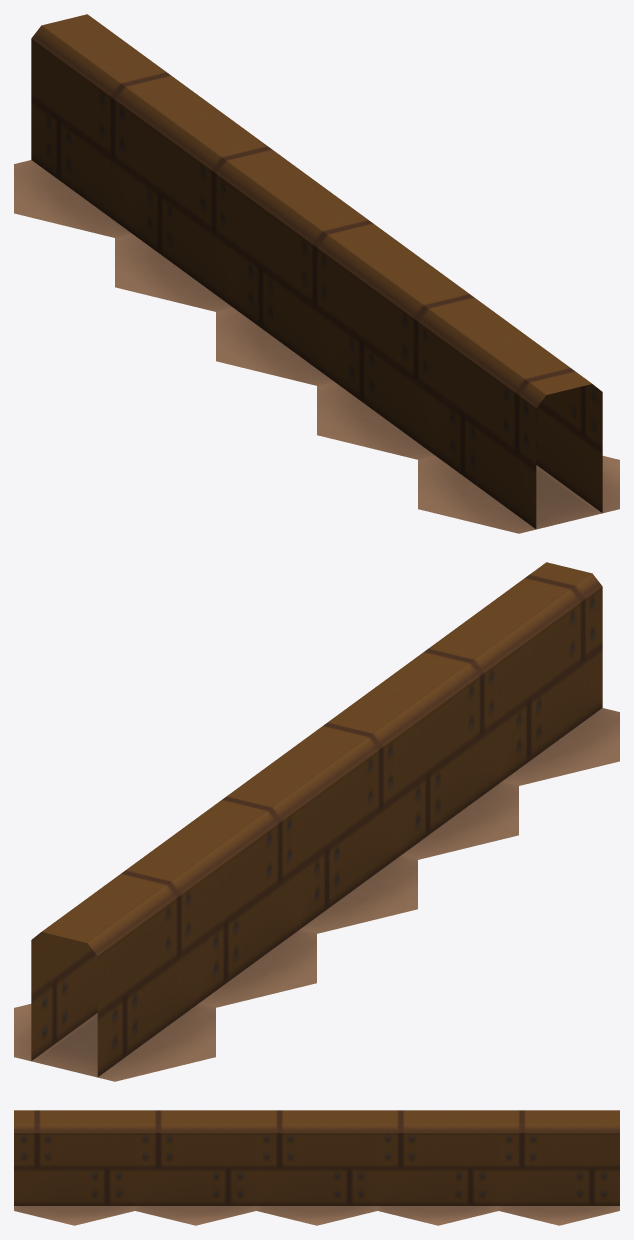
File: Barriere5_Centre.FBX
3 renders of one model, top to bottom at view 1: azimuth 30°, elevation 25°; view 2: azimuth 150°, elevation 25°; view 3: azimuth 270°, elevation 25°, orthographic. The views are drawn at different scales.
Parts seen in each view (by area): view 1: Barriere5_Centre; view 2: Barriere5_Centre; view 3: Barriere5_Centre.
Part boxes in pixels (bbox=[...]): Barriere5_Centre: bbox=[14, 14, 619, 533]; Barriere5_Centre: bbox=[14, 562, 619, 1081]; Barriere5_Centre: bbox=[14, 1110, 619, 1225].
Bounding box in the file's own units: 1 × 0.6247 × 4.33.
